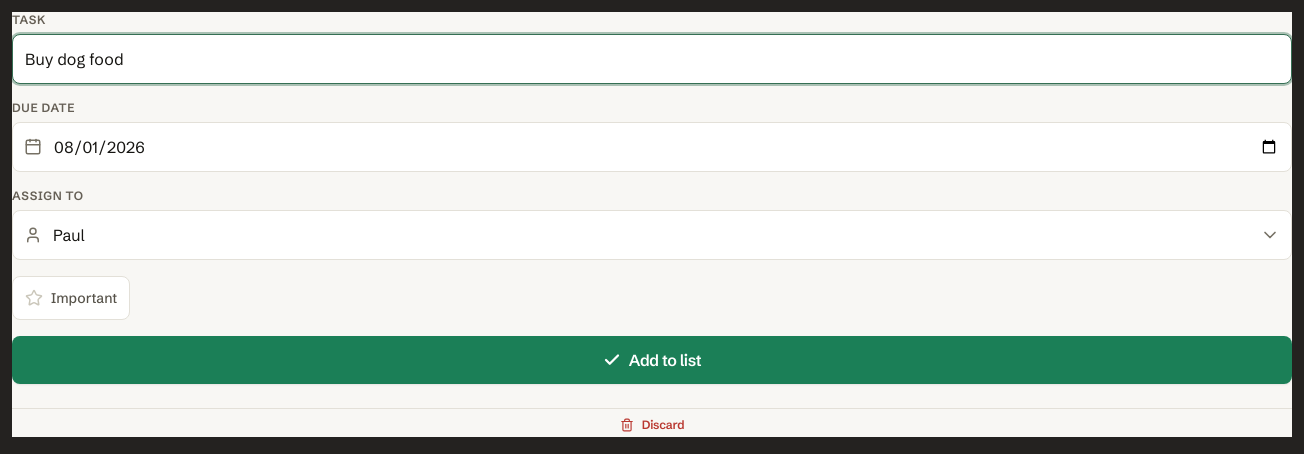
TodoReviewForm › disables Add to list when the task text is emptied
Step 1. Clear the field labelled "Task" → (652, 59), box 12,34 -> 1292,84
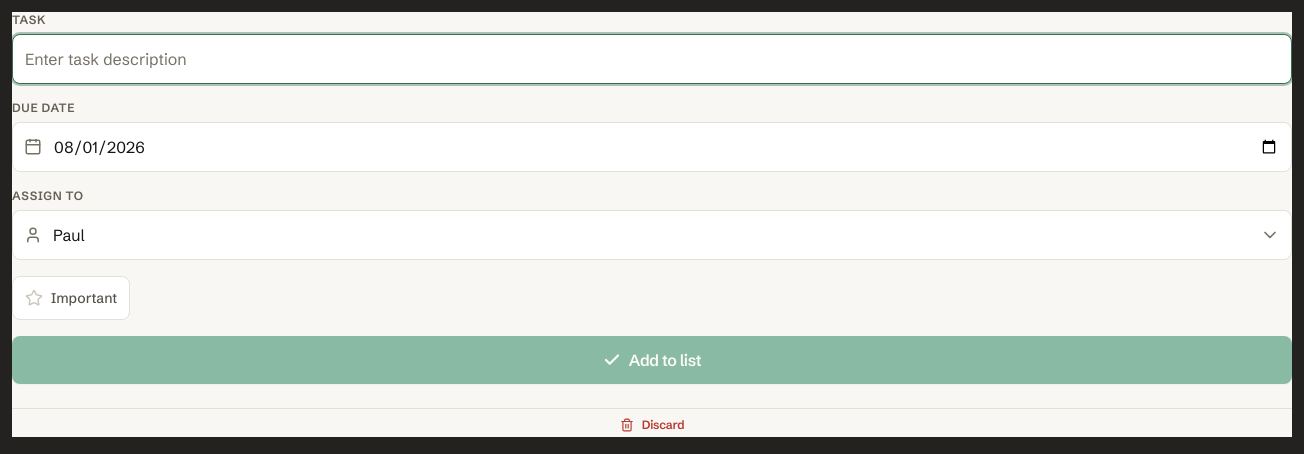
Check: the button "Add to list" is disabled, box 12,336 -> 1292,384
